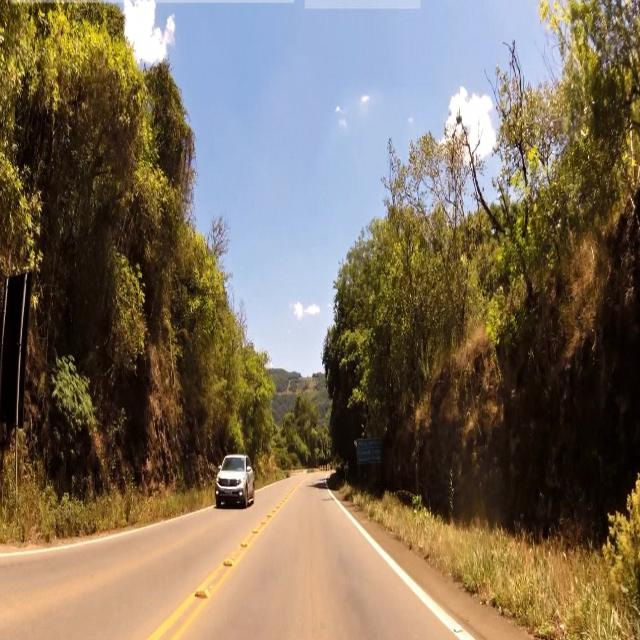LOC-6: (357, 436, 380, 464)
